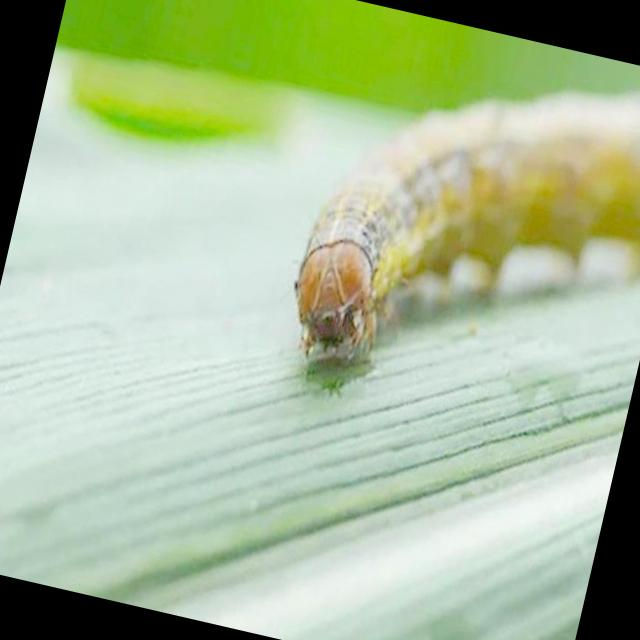pest: (280, 14, 640, 432)
